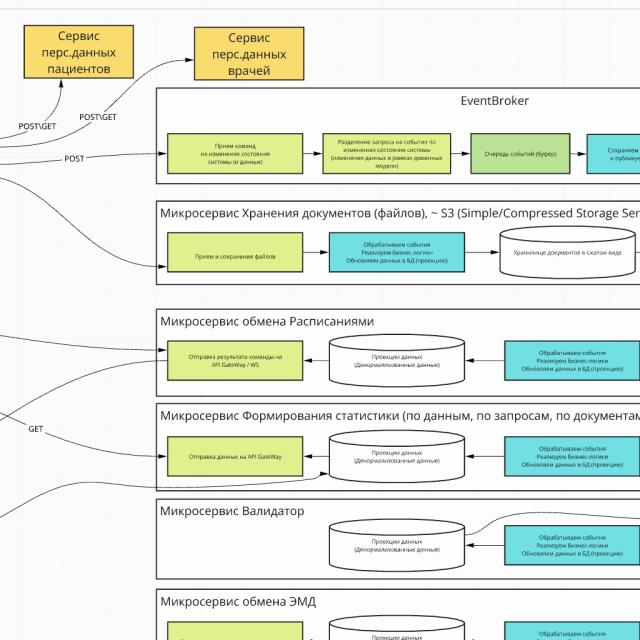arrow: (464, 248, 500, 256), (465, 542, 505, 549), (465, 357, 505, 364), (465, 453, 504, 459), (303, 452, 329, 460), (302, 249, 329, 256), (303, 358, 330, 364), (451, 151, 471, 158), (303, 150, 323, 157), (570, 150, 587, 157)
rectangle: (499, 233, 636, 280), (328, 341, 465, 388), (329, 526, 466, 573), (329, 437, 465, 483), (24, 25, 134, 78), (195, 27, 304, 79), (167, 133, 303, 174), (167, 232, 303, 272), (167, 341, 303, 381), (167, 436, 303, 476), (505, 525, 639, 565), (505, 340, 639, 380), (330, 232, 464, 272), (505, 437, 639, 476), (323, 134, 451, 174), (471, 134, 569, 174)
text_region: (160, 204, 640, 222), (160, 410, 640, 424), (160, 314, 375, 327), (160, 596, 317, 610), (160, 506, 305, 520), (460, 95, 530, 108), (18, 120, 56, 132), (79, 112, 117, 122), (64, 153, 86, 163), (28, 424, 44, 434)
